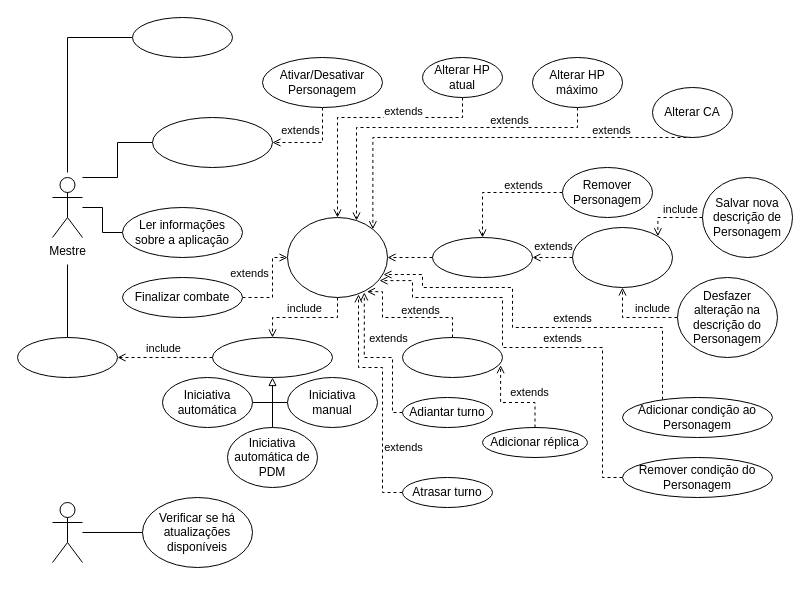
The diagram is 810 pixels wide and 601 high, and some of its shapes have lost their labels. The centre of each missing label's shape, as x and y in pixels:
"Adicionar Personagem" belongs at point (452, 357).
"Definir iniciativa" belongs at point (272, 357).
"Editar descrição de Personagem" belongs at point (622, 257).
"Exibir informações da batalha" belongs at point (337, 257).
"Manter Efeitos" belongs at point (182, 37).
"Manter Personagens" belongs at point (212, 142).
"Selecionar personagem" belongs at point (482, 257).
"Selecionar Personagens" belongs at point (67, 357).
"Sistema" belongs at point (67, 532).
